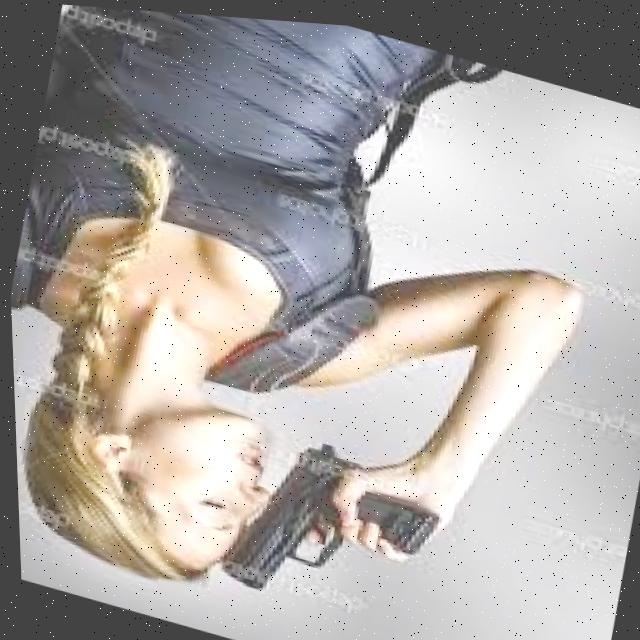pistol: (207, 416, 361, 610)
